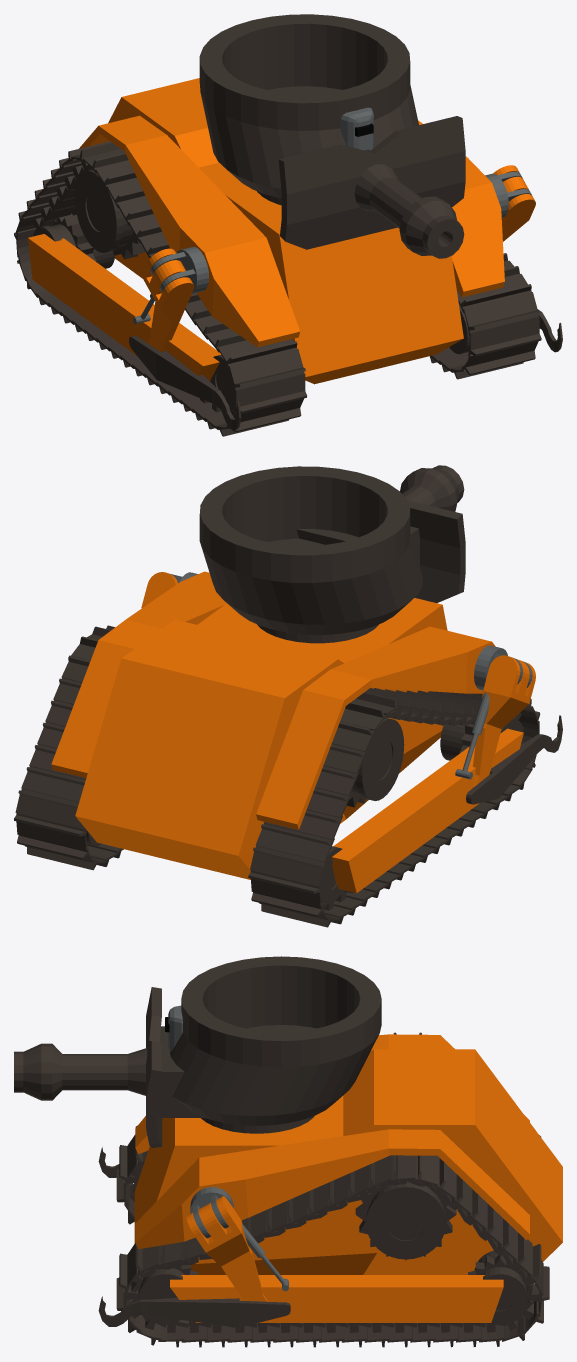
File: LAVA ROBOT.fbx
The picture shows the model from 3 angles, top to bottom: view 1: azimuth 30°, elevation 25°; view 2: azimuth 150°, elevation 25°; view 3: azimuth 270°, elevation 25°; orthographic projection. The views are drawn at different scales.
Visible parts, largest first — view 1: body, Cylinder.001, Cube.001, tracks left|tread|Dupli|1, tracks left|track frame|Dupli|2, tracks right|tread|Dupli|1, upper arm, tracks left|wheel gear|Dupli|0.4, hook, am joint, tracks left|wheel gear|Dupli|0.3, head (+1 smaller); view 2: body, Cylinder.001, tracks left|tread|Dupli|1, tracks right|tread|Dupli|1, tracks left|track frame|Dupli|2, Cube.001, upper arm, tracks left|wheel gear|Dupli|0.4, hook, tracks left|wheel gear|Dupli|0.5, am joint, Cylinder (+1 smaller); view 3: body, Cylinder.001, tracks right|tread|Dupli|1, tracks right|track frame|Dupli|2, Cube.001, tracks right|wheel gear|Dupli|0.4, hook, upper arm, tracks right|wheel gear|Dupli|0.3, tracks left|tread|Dupli|1, tracks right|wheel gear|Dupli|0.5, am joint (+2 smaller).
Boxes of the visible parts, left/top/right/bottom form: body: left=79, top=78, right=504, bottom=384; Cylinder.001: left=199, top=14, right=418, bottom=205; Cube.001: left=278, top=116, right=465, bottom=258; tracks left|tread|Dupli|1: left=14, top=141, right=307, bottom=436; tracks left|track frame|Dupli|2: left=28, top=234, right=220, bottom=380; tracks right|tread|Dupli|1: left=429, top=253, right=541, bottom=379; upper arm: left=141, top=165, right=535, bottom=351; tracks left|wheel gear|Dupli|0.4: left=74, top=169, right=145, bottom=259; hook: left=129, top=309, right=562, bottom=430; am joint: left=150, top=171, right=531, bottom=293; tracks left|wheel gear|Dupli|0.3: left=32, top=213, right=115, bottom=268; head: left=340, top=107, right=373, bottom=151; body: left=51, top=571, right=495, bottom=879; Cylinder.001: left=199, top=466, right=423, bottom=643; tracks left|tread|Dupli|1: left=248, top=688, right=540, bottom=927; tracks right|tread|Dupli|1: left=14, top=625, right=123, bottom=870; tracks left|track frame|Dupli|2: left=332, top=728, right=523, bottom=893; Cube.001: left=296, top=465, right=465, bottom=602; upper arm: left=141, top=572, right=535, bottom=787; tracks left|wheel gear|Dupli|0.4: left=346, top=717, right=404, bottom=807; hook: left=466, top=715, right=562, bottom=804; tracks left|wheel gear|Dupli|0.5: left=440, top=718, right=523, bottom=760; am joint: left=170, top=572, right=532, bottom=690; Cylinder: left=455, top=692, right=489, bottom=779; body: left=134, top=1034, right=562, bottom=1274; Cylinder.001: left=170, top=956, right=381, bottom=1133; tracks right|tread|Dupli|1: left=116, top=1155, right=549, bottom=1347; tracks right|track frame|Dupli|2: left=170, top=1275, right=503, bottom=1322; Cube.001: left=14, top=987, right=204, bottom=1148; tracks right|wheel gear|Dupli|0.4: left=355, top=1180, right=456, bottom=1260; hook: left=98, top=1147, right=290, bottom=1327; upper arm: left=186, top=1196, right=267, bottom=1301; tracks right|wheel gear|Dupli|0.3: left=468, top=1250, right=533, bottom=1323; tracks left|tread|Dupli|1: left=116, top=1032, right=541, bottom=1224; tracks right|wheel gear|Dupli|0.5: left=133, top=1262, right=197, bottom=1323; am joint: left=190, top=1187, right=233, bottom=1238.
Bounding box in the file's own units: 535 × 407 × 726.
